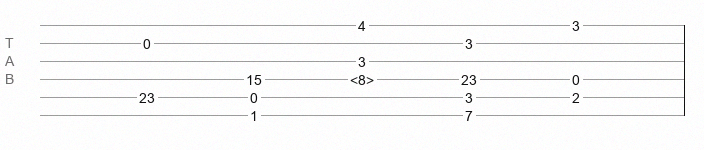0: (143, 36, 151, 46), (250, 90, 258, 100), (572, 72, 580, 82)
1: (250, 108, 258, 118)
15: (246, 72, 262, 82)
2: (572, 90, 580, 100)
23: (139, 90, 155, 100), (461, 72, 477, 82)
3: (358, 54, 366, 64), (465, 90, 473, 100), (465, 36, 473, 46), (572, 18, 580, 28)
4: (358, 18, 366, 28)
7: (465, 108, 473, 118)
harmonic: (350, 72, 374, 82)
